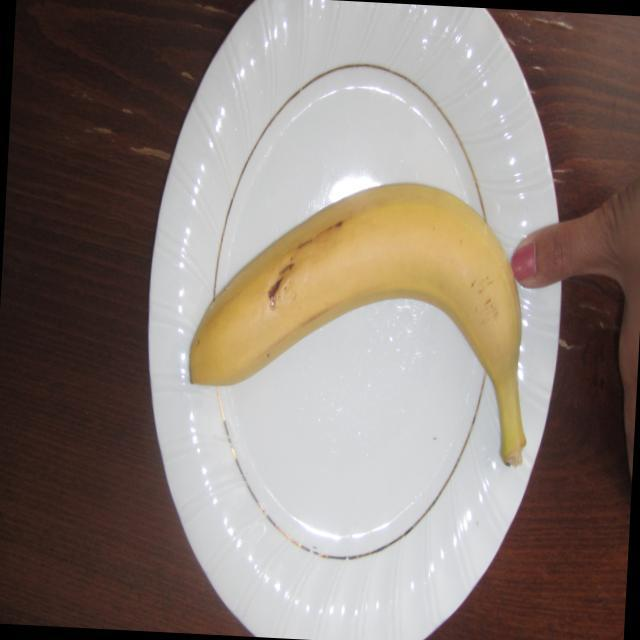Banana: (178, 165, 545, 478)
Finger: (506, 205, 576, 302)
